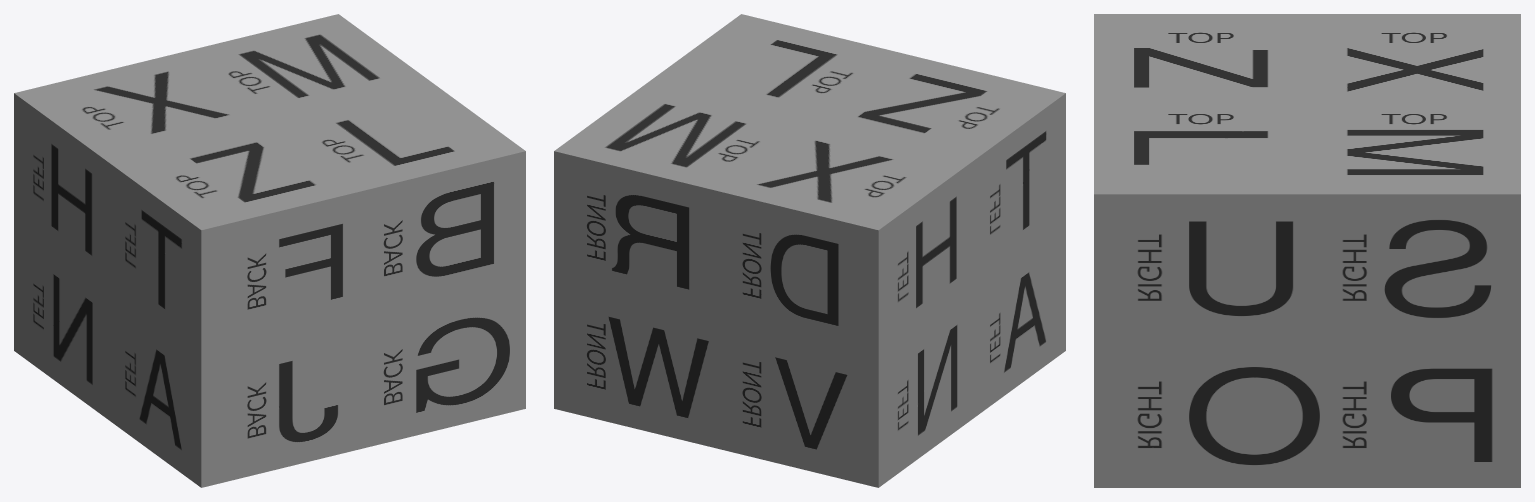
The model's file is shaderball.glb.
3 views of the same model, side by side, from view 1: azimuth 30°, elevation 25°; view 2: azimuth 150°, elevation 25°; view 3: azimuth 270°, elevation 25° (orthographic). The views are drawn at different scales.
Parts seen in each view (by area): view 1: back, top, left; view 2: front, top, left; view 3: right, top.
Part boxes in pixels (x1=…): back: x1=201, y1=151, x2=525, y2=487; top: x1=14, y1=14, x2=525, y2=230; left: x1=14, y1=93, x2=201, y2=487; front: x1=554, y1=151, x2=878, y2=487; top: x1=554, y1=14, x2=1065, y2=230; left: x1=878, y1=93, x2=1065, y2=487; right: x1=1094, y1=194, x2=1520, y2=487; top: x1=1094, y1=14, x2=1520, y2=194.
Size of the model in its own units: 1 by 0.7586 by 1.
Materials: 11 (8 with a texture image).
